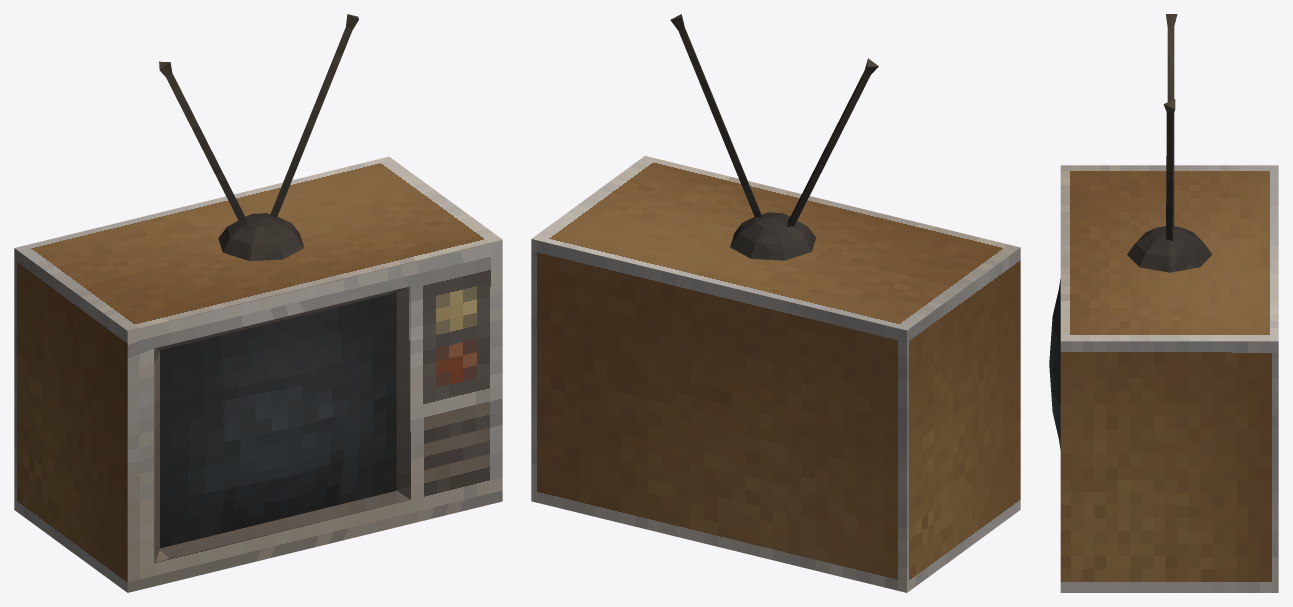
Rendered from Seeker_TV.fbx.
3 views of the same model, side by side, from view 1: azimuth 30°, elevation 25°; view 2: azimuth 150°, elevation 25°; view 3: azimuth 270°, elevation 25° (orthographic). The views are drawn at different scales.
Parts seen in each view (by area): view 1: Cube; view 2: Cube; view 3: Cube.
Boxes of the visible parts, x1,y1,x2,y2 form: Cube: [14, 14, 502, 592]; Cube: [531, 14, 1020, 592]; Cube: [1049, 14, 1278, 592].
Bounding box in the file's own units: 300 × 357 × 165.
